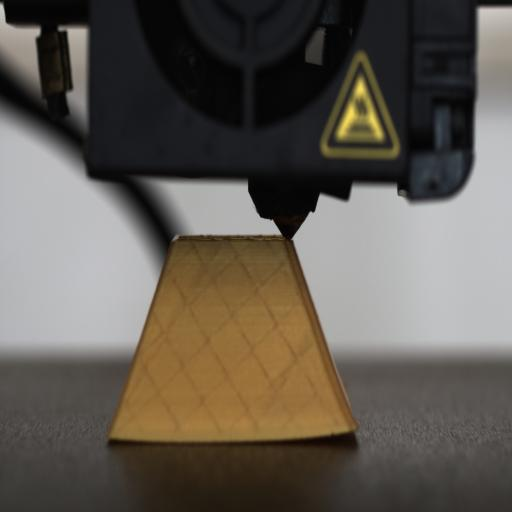warp: (293, 412, 369, 452)
